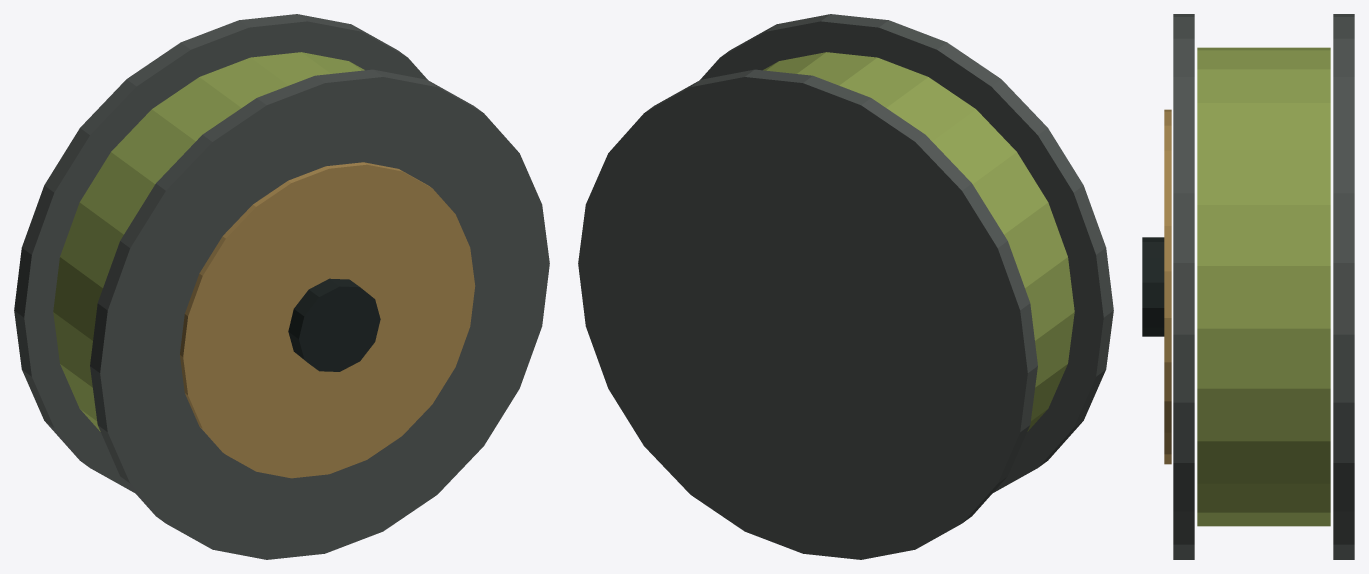
Rendered from braid.glb.
3 views of the same model, side by side, from view 1: azimuth 30°, elevation 25°; view 2: azimuth 150°, elevation 25°; view 3: azimuth 270°, elevation 25° (orthographic). The views are drawn at different scales.
Parts seen in each view (by area): view 1: Spool_flange.004, Front_label.002, Spool_flange.005, Wound_line.002, Center_hub; view 2: Spool_flange.005, Spool_flange.004, Wound_line.002; view 3: Wound_line.002, Spool_flange.004, Spool_flange.005, Front_label.002, Center_hub.
Part boxes in pixels (x1=…): Spool_flange.004: x1=90, y1=69, x2=549, y2=559; Front_label.002: x1=180, y1=162, x2=475, y2=478; Spool_flange.005: x1=14, y1=14, x2=427, y2=493; Wound_line.002: x1=53, y1=52, x2=364, y2=431; Center_hub: x1=288, y1=278, x2=380, y2=371; Spool_flange.005: x1=578, y1=69, x2=1037, y2=559; Spool_flange.004: x1=700, y1=14, x2=1113, y2=493; Wound_line.002: x1=763, y1=52, x2=1074, y2=431; Wound_line.002: x1=1197, y1=47, x2=1330, y2=526; Spool_flange.004: x1=1173, y1=14, x2=1194, y2=559; Spool_flange.005: x1=1333, y1=14, x2=1354, y2=559; Front_label.002: x1=1164, y1=109, x2=1171, y2=464; Center_hub: x1=1142, y1=237, x2=1164, y2=336.
Size of the model in its own units: 0.308 by 0.308 by 0.1195.
